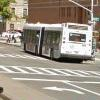buses: (19, 22, 94, 64)
